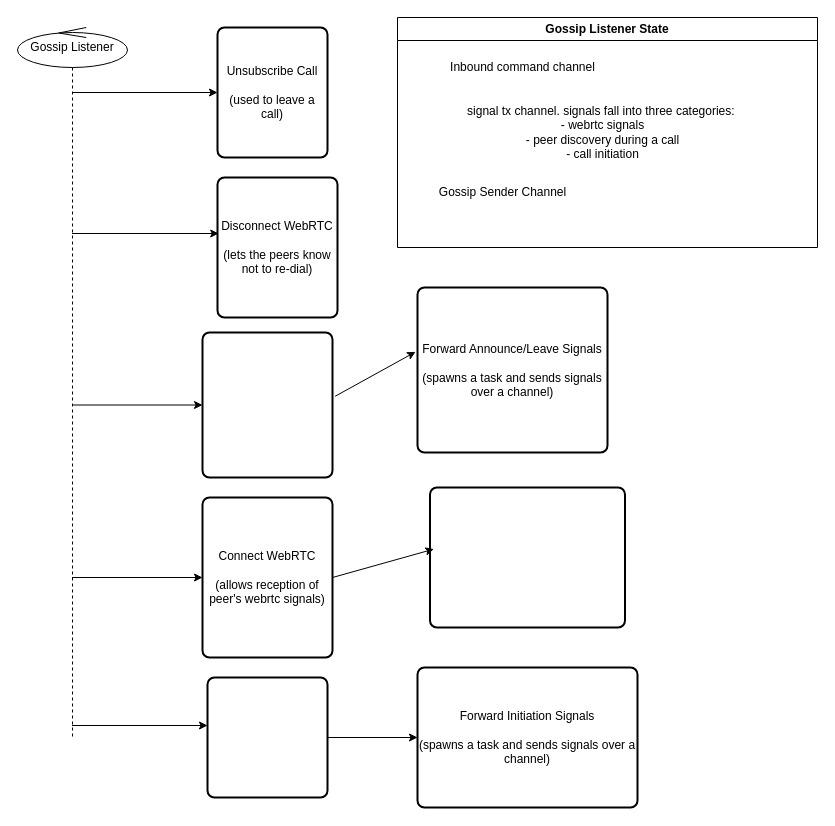
The diagram is 835 pixels wide and 826 high, and some of its shapes have lost their labels. Here are the shapes that lost their labels. From the top down, the centre of each, then its label:
At [267,404]: "Subscribe Call (used to answer a call)".
At [527,557]: "Forward WebRTC Signals (spawns a task and sends signals over a channel)".
At [267,737]: "Receive Calls (allows peers to dial you)".
